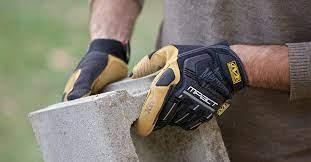Gloves: (137, 43, 243, 134), (65, 36, 131, 102)
